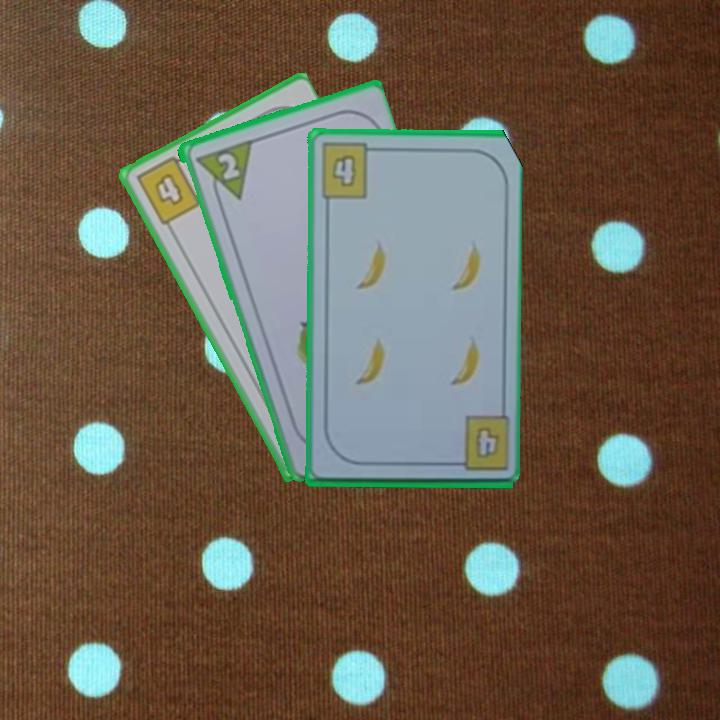2p: (213, 149, 242, 183)
4b: (132, 150, 204, 228), (316, 140, 381, 201), (474, 426, 499, 458)
